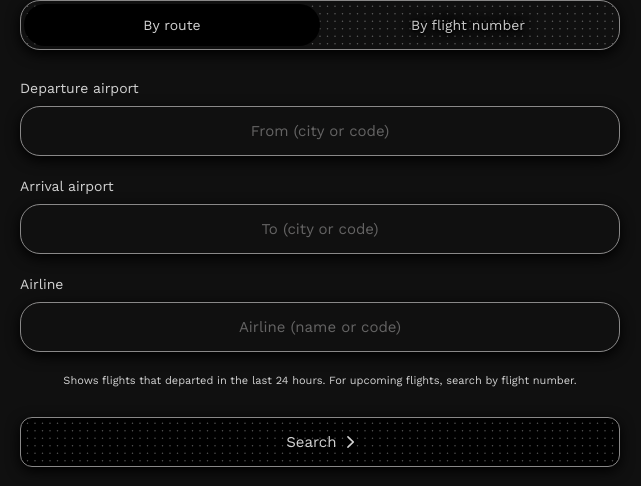
SearchForm › rejects a malformed flight number inline
This screenshot has width=641, height=486.
Click the tab "By flight number" at coordinates (468, 25), box [320,4,616,46]
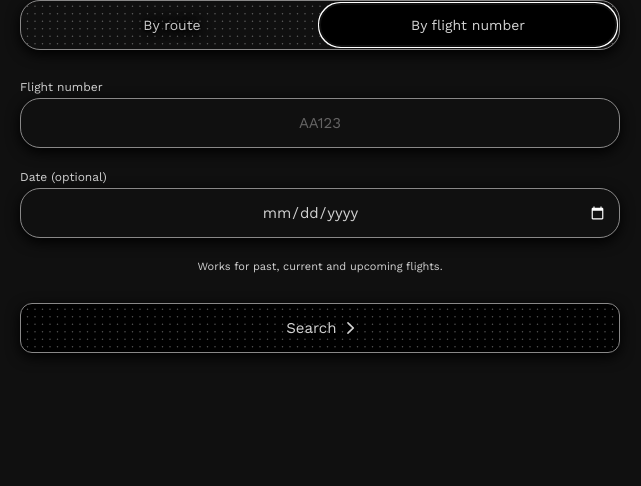
Type "xx" into the field labelled "Flight number" at coordinates (320, 123), box [20,98,620,148]
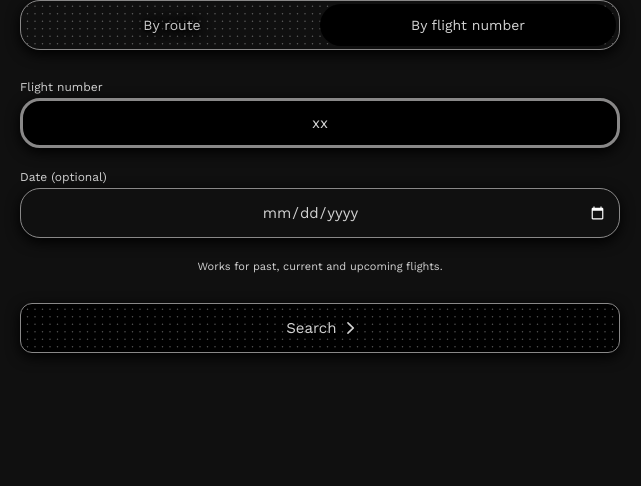
Click the button "Search" at coordinates (320, 328), box [20,303,620,353]
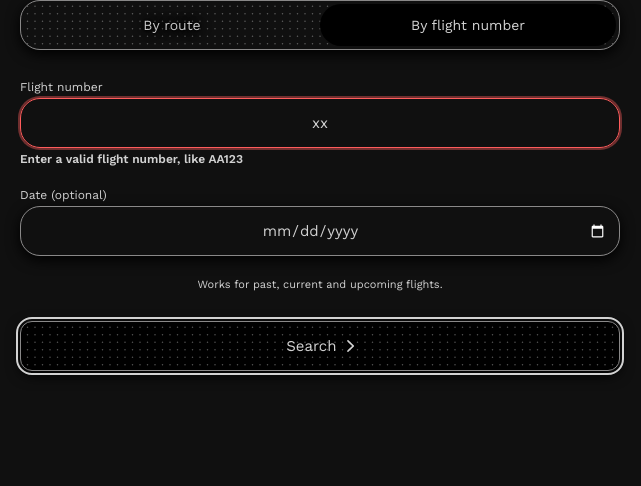
Now the message shows "flight number", box [20,152,243,166]
